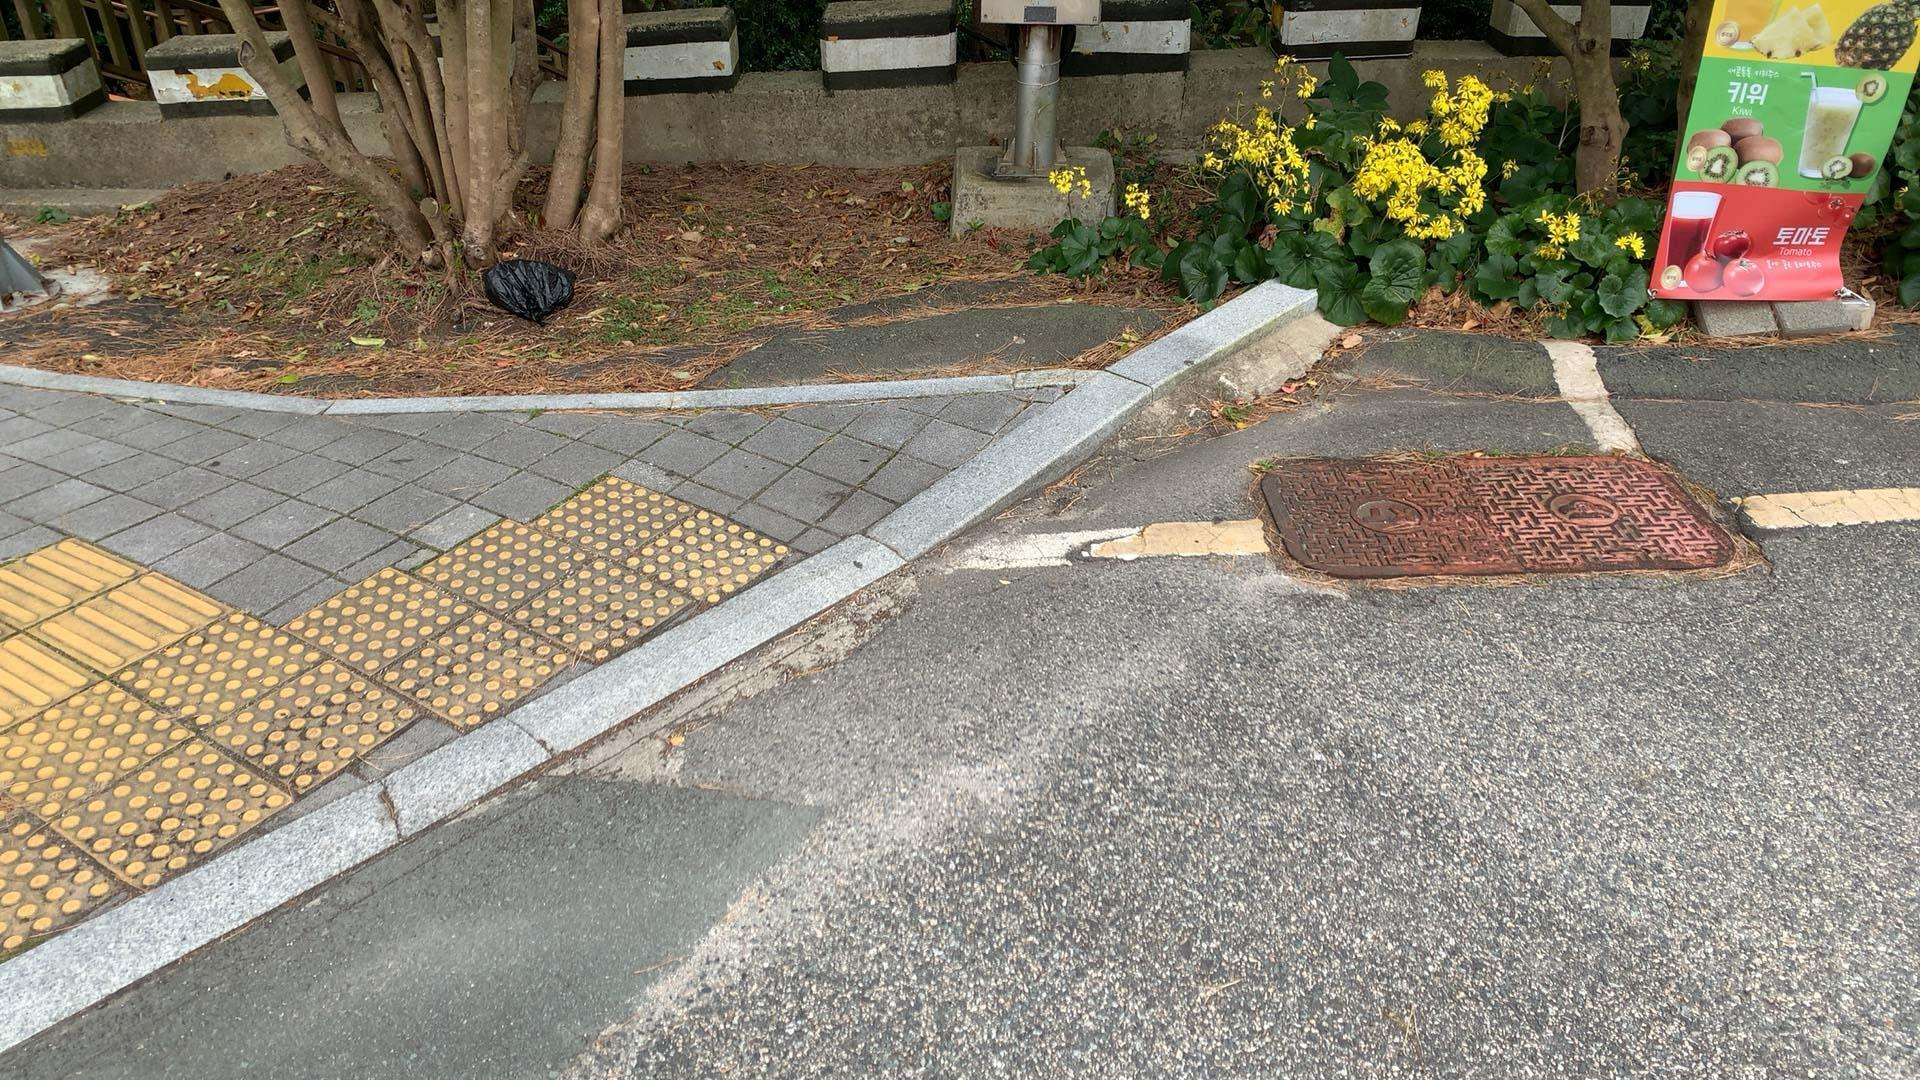black_bag: (473, 253, 584, 328)
